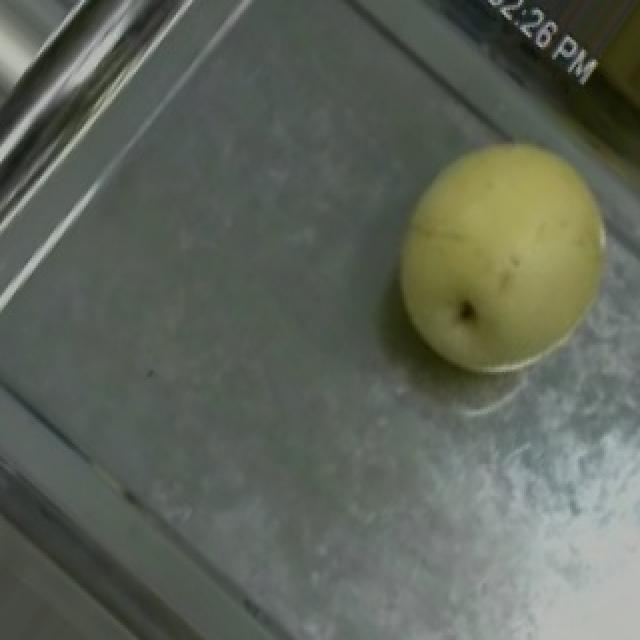Fruit: (348, 99, 640, 417)
